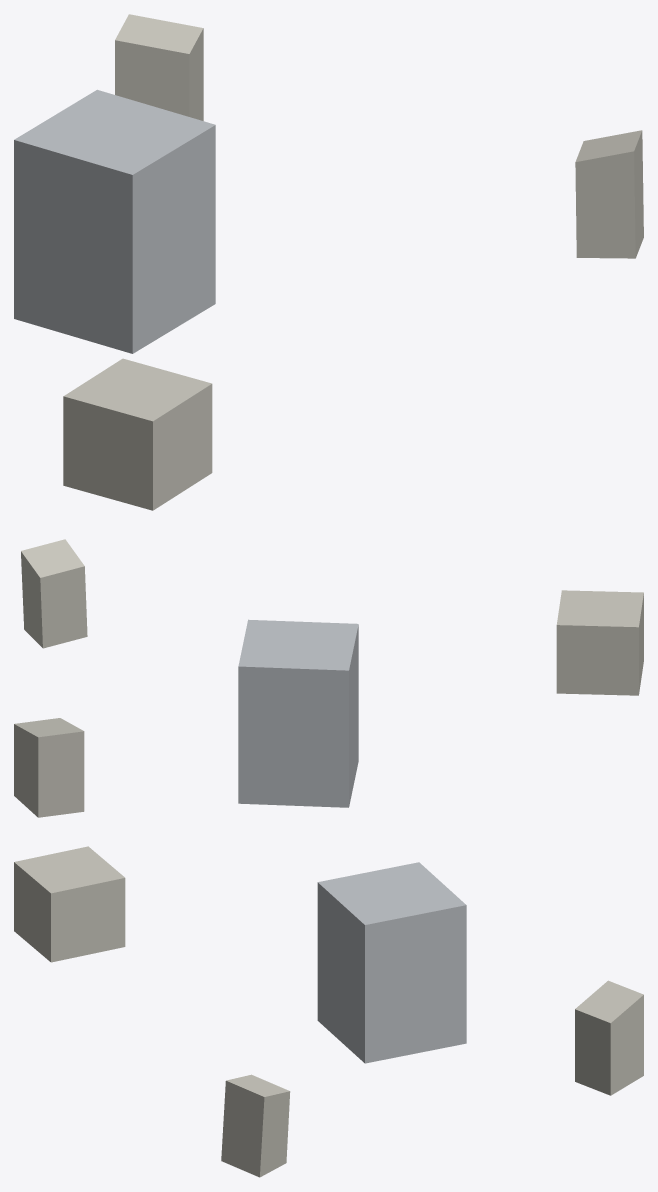
File: Rocks_Square_s_03.fbx
3 views of the same model, one above another, from view 1: azimuth 30°, elevation 25°; view 2: azimuth 150°, elevation 25°; view 3: azimuth 270°, elevation 25° (orthographic). The views are drawn at different scales.
Visible parts, largest first — view 1: Rocks_Square_s_03; view 2: Rocks_Square_s_03; view 3: Rocks_Square_s_03.
Part boxes in pixels (x1,y1,x2,y2): Rocks_Square_s_03: [14, 14, 643, 510]; Rocks_Square_s_03: [14, 539, 643, 817]; Rocks_Square_s_03: [14, 846, 643, 1177].
Size of the model in its own units: 82.02 by 20.26 by 83.52.
